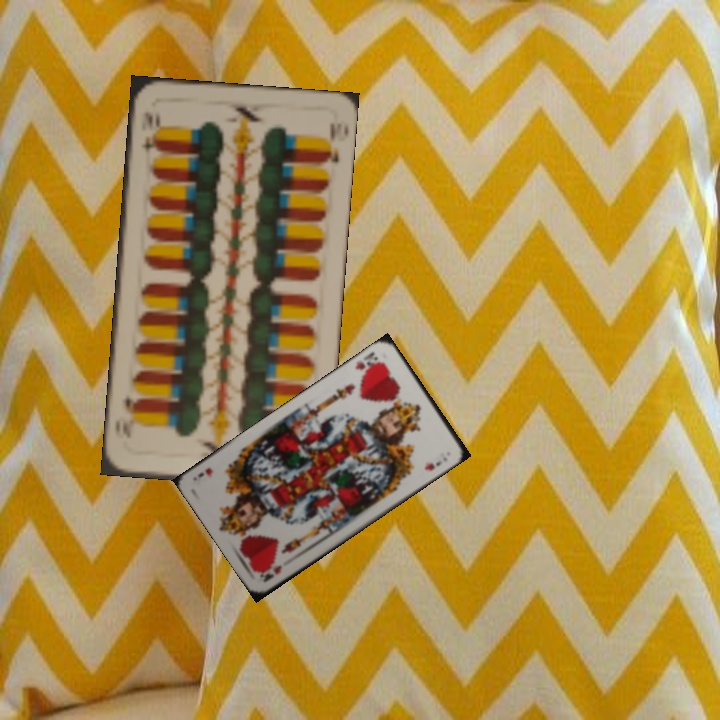E10: (139, 107, 162, 156)
HK: (351, 348, 386, 379), (256, 561, 284, 585)
